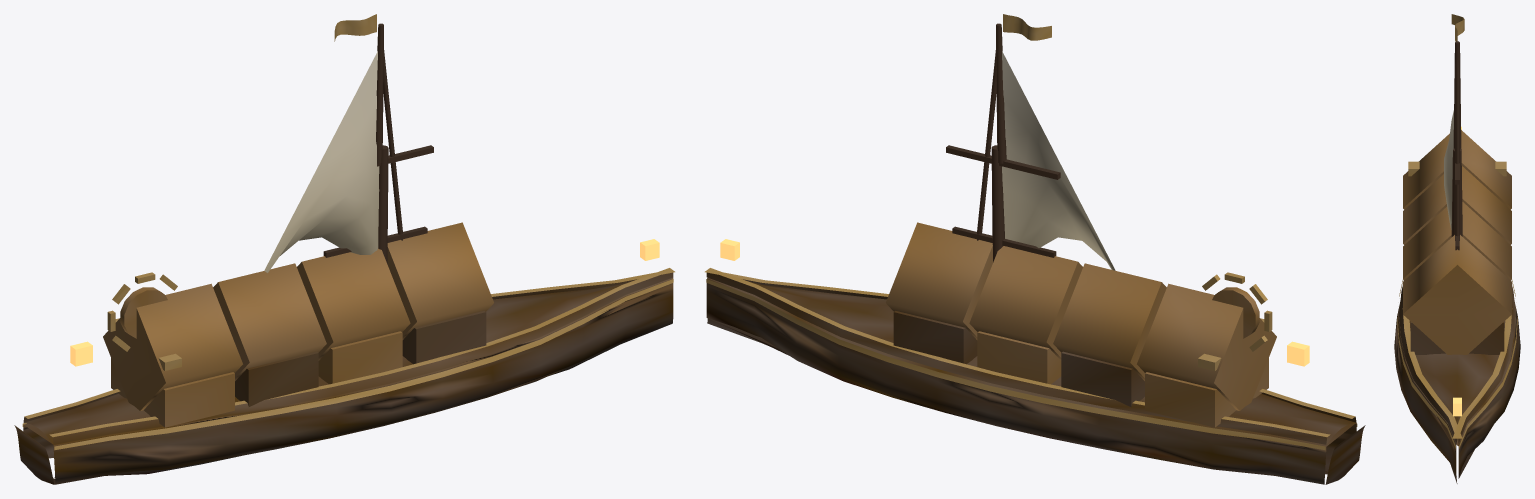
The model's file is garden-hero-circle.glb.
3 renders of one model, left to right at view 1: azimuth 30°, elevation 25°; view 2: azimuth 150°, elevation 25°; view 3: azimuth 270°, elevation 25°, orthographic. The views are drawn at different scales.
Parts seen in each view (by area): view 1: wood-hull, sail-hull, spar-hull, trim-hull, glow-hull; view 2: wood-hull, sail-hull, spar-hull, trim-hull, glow-hull; view 3: wood-hull, spar-hull, trim-hull, sail-hull, glow-hull.
Boxes of the visible parts, left/top/right/bottom form: wood-hull: left=14, top=14, right=674, bottom=484; sail-hull: left=264, top=51, right=379, bottom=272; spar-hull: left=323, top=23, right=433, bottom=264; trim-hull: left=22, top=279, right=673, bottom=450; glow-hull: left=70, top=239, right=659, bottom=366; wood-hull: left=705, top=14, right=1365, bottom=484; sail-hull: left=1002, top=51, right=1115, bottom=270; spar-hull: left=946, top=23, right=1060, bottom=262; trim-hull: left=706, top=279, right=1357, bottom=450; glow-hull: left=720, top=239, right=1309, bottom=366; wood-hull: left=1394, top=14, right=1520, bottom=483; spar-hull: left=1451, top=41, right=1462, bottom=250; trim-hull: left=1397, top=279, right=1517, bottom=448; sail-hull: left=1444, top=110, right=1453, bottom=229; glow-hull: left=1453, top=126, right=1461, bottom=416.
Bounding box in the file's own units: 12.68 × 7.63 × 2.5.
